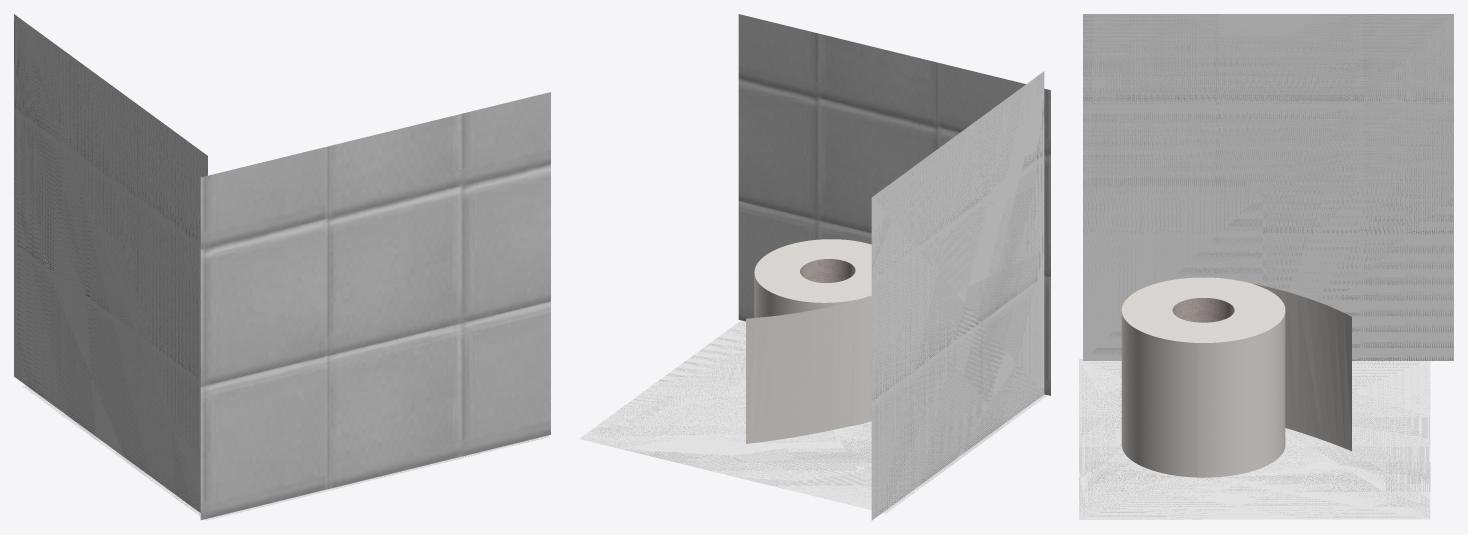
3 views of the same model, side by side, from view 1: azimuth 30°, elevation 25°; view 2: azimuth 150°, elevation 25°; view 3: azimuth 270°, elevation 25° (orthographic). The views are drawn at different scales.
Parts seen in each view (by area): view 1: SketchUp (×3); view 2: SketchUp (×6); view 3: SketchUp (×5).
Part boxes in pixels (box(x1,y1,x2,y2)): SketchUp (×3): box(14, 14, 550, 520); SketchUp (×6): box(579, 14, 1050, 520); SketchUp (×5): box(1079, 14, 1453, 519).
Size of the model in its own units: 806 by 780 by 797.
Materials: 6 (5 with a texture image).
